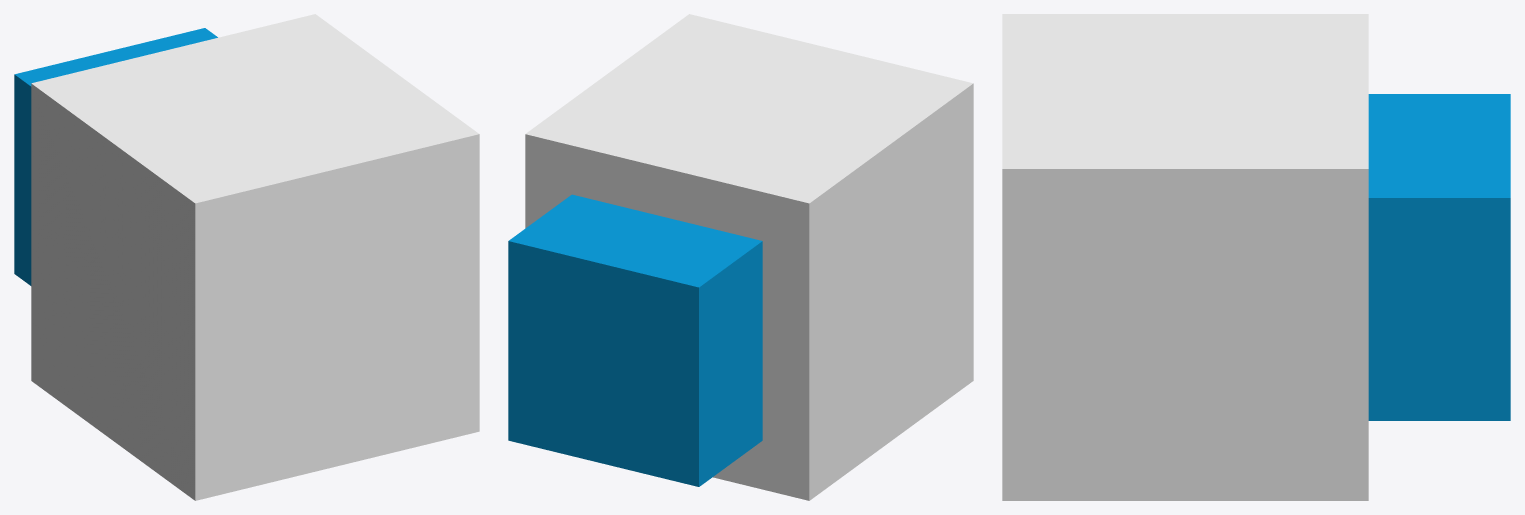
File: Camera.fbx
3 views of the same model, side by side, from view 1: azimuth 30°, elevation 25°; view 2: azimuth 150°, elevation 25°; view 3: azimuth 270°, elevation 25° (orthographic). The views are drawn at different scales.
Parts seen in each view (by area): view 1: Cube, Cube.001; view 2: Cube, Cube.001; view 3: Cube, Cube.001.
Boxes of the visible parts, x1=… form: Cube: x1=31, y1=14, x2=479, y2=500; Cube.001: x1=14, y1=28, x2=217, y2=285; Cube: x1=525, y1=14, x2=973, y2=500; Cube.001: x1=508, y1=194, x2=762, y2=486; Cube: x1=1002, y1=14, x2=1368, y2=500; Cube.001: x1=1368, y1=94, x2=1510, y2=420.
Bounding box in the file's own units: 2 × 2 × 2.77.
2 materials, 2 textured.
